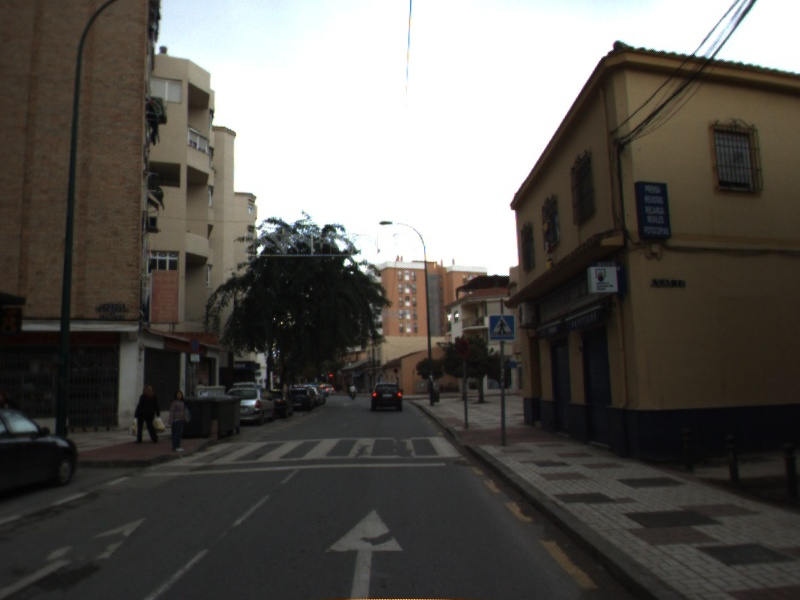STRAIGHT: (1, 515, 150, 600), (322, 507, 407, 600)
